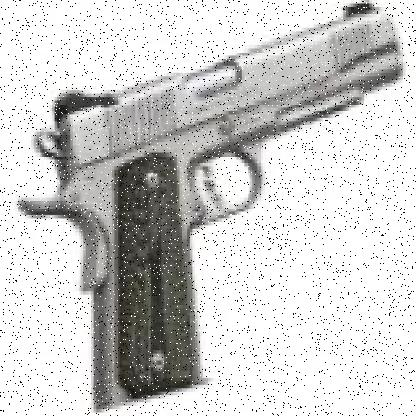pistol: (18, 3, 400, 412)
